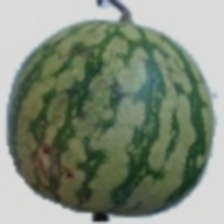watermelon: (3, 38, 203, 191)
